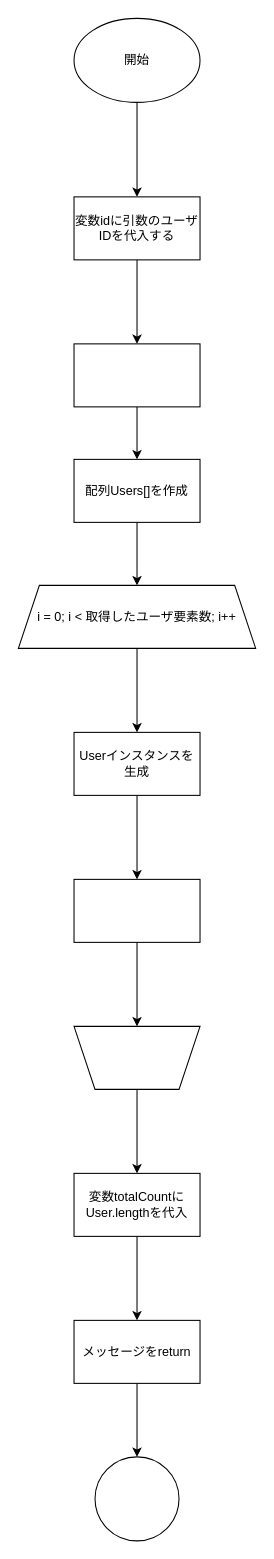
Some shapes in this 274 by 1559 pixel diagram are drawn without their labels. Each missing label, with the box of its shape:
DB操作のgetPastRecipientsを呼び出し: (73, 343, 200, 407)
生成したインスタンスをUserに格納: (73, 878, 200, 942)
終了: (94, 1456, 179, 1541)
